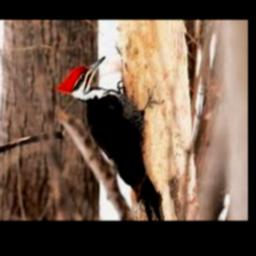Woodpecker: (56, 56, 162, 220)
